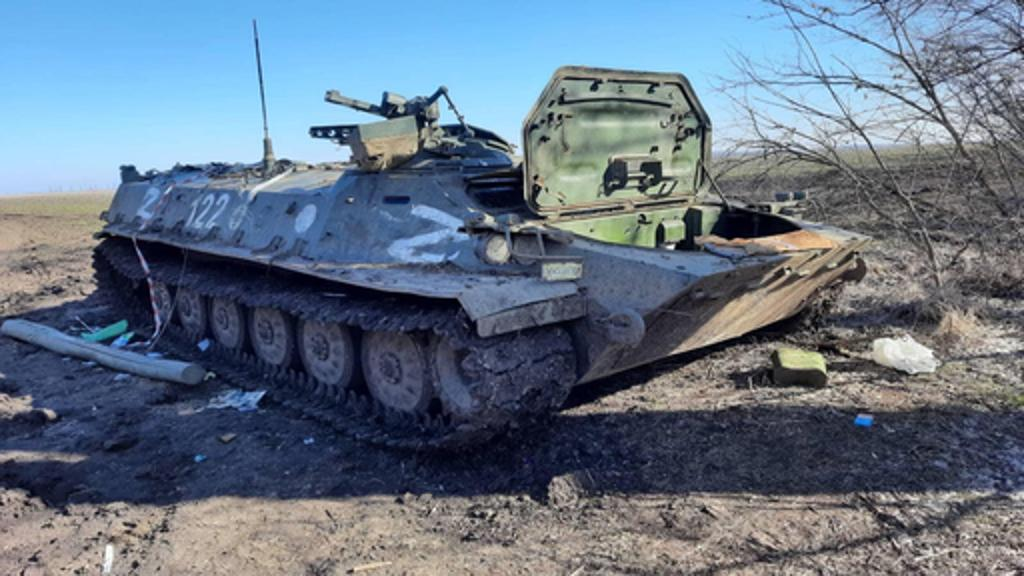APC-IFV: (84, 60, 868, 456)
